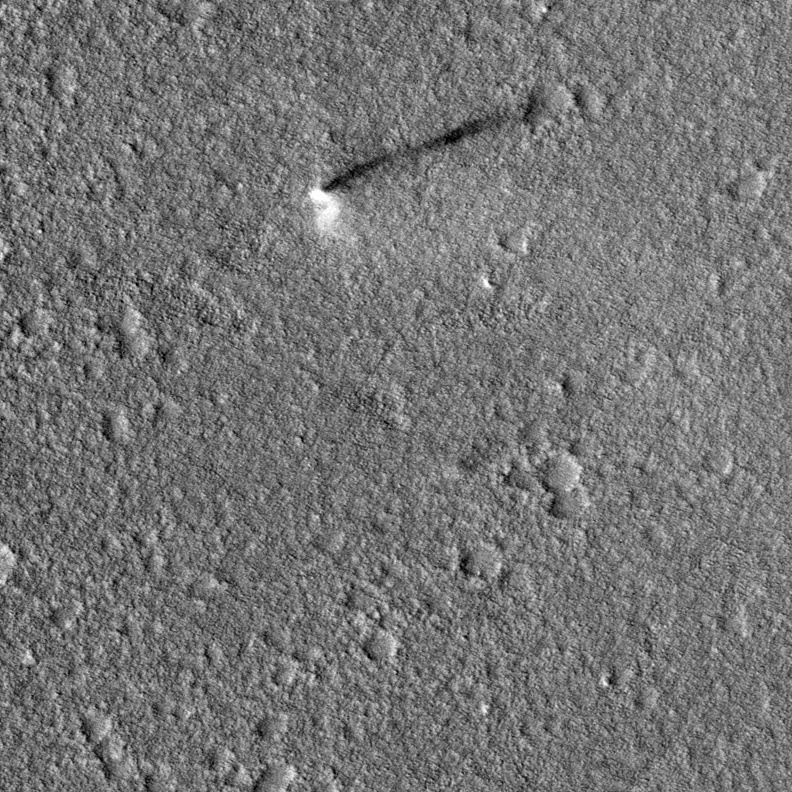dust_devil: (304, 98, 538, 240)
